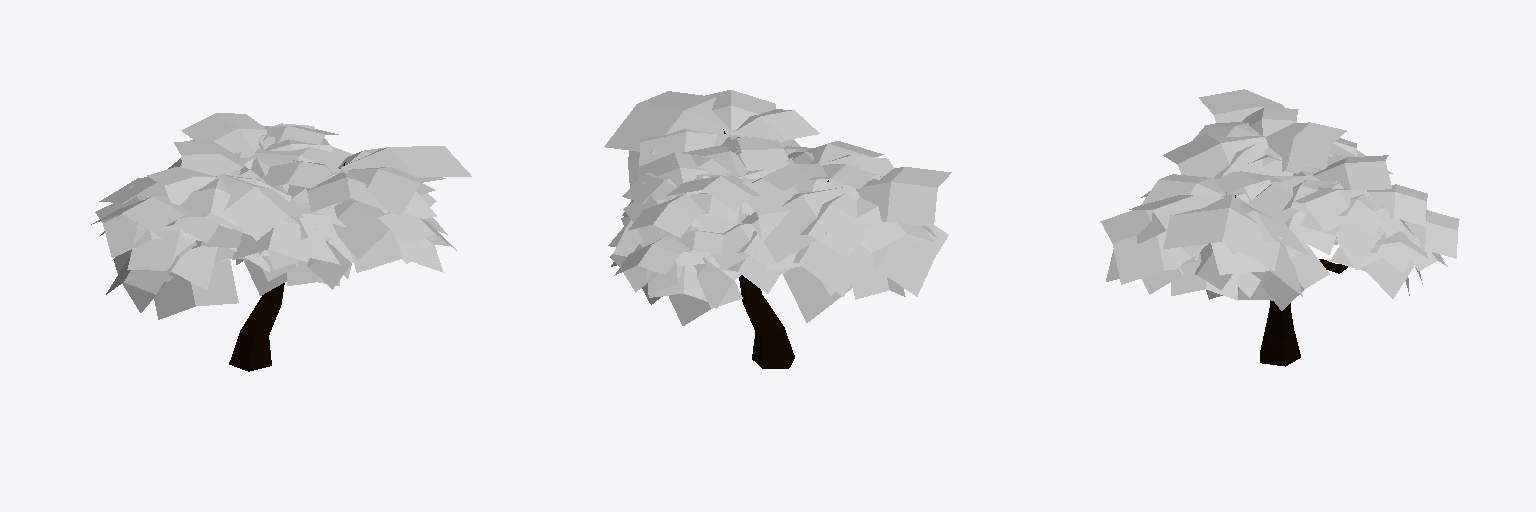
The model's file is Tree_Green_03.obj.
3 renders of one model, left to right at view 1: azimuth 30°, elevation 25°; view 2: azimuth 150°, elevation 25°; view 3: azimuth 270°, elevation 25°, orthographic.
Visible parts, largest first — view 1: Tree_Green_03_Plane.024; view 2: Tree_Green_03_Plane.024; view 3: Tree_Green_03_Plane.024.
Boxes of the visible parts, <box> form: Tree_Green_03_Plane.024: <box>91,113,471,371</box>; Tree_Green_03_Plane.024: <box>604,90,951,368</box>; Tree_Green_03_Plane.024: <box>1100,89,1459,366</box>.
Size of the model in its own units: 19.19 by 11.48 by 17.89.